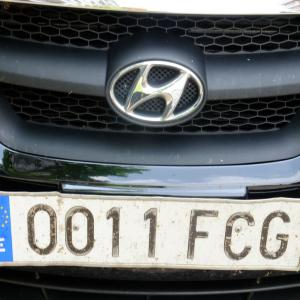Vehicle-registration-plate: (1, 196, 300, 269)
